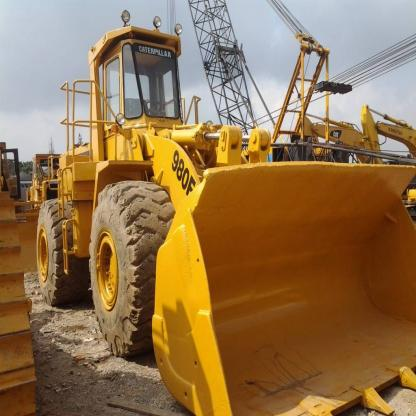bull_dozer/loader/grader: (38, 14, 416, 413)
